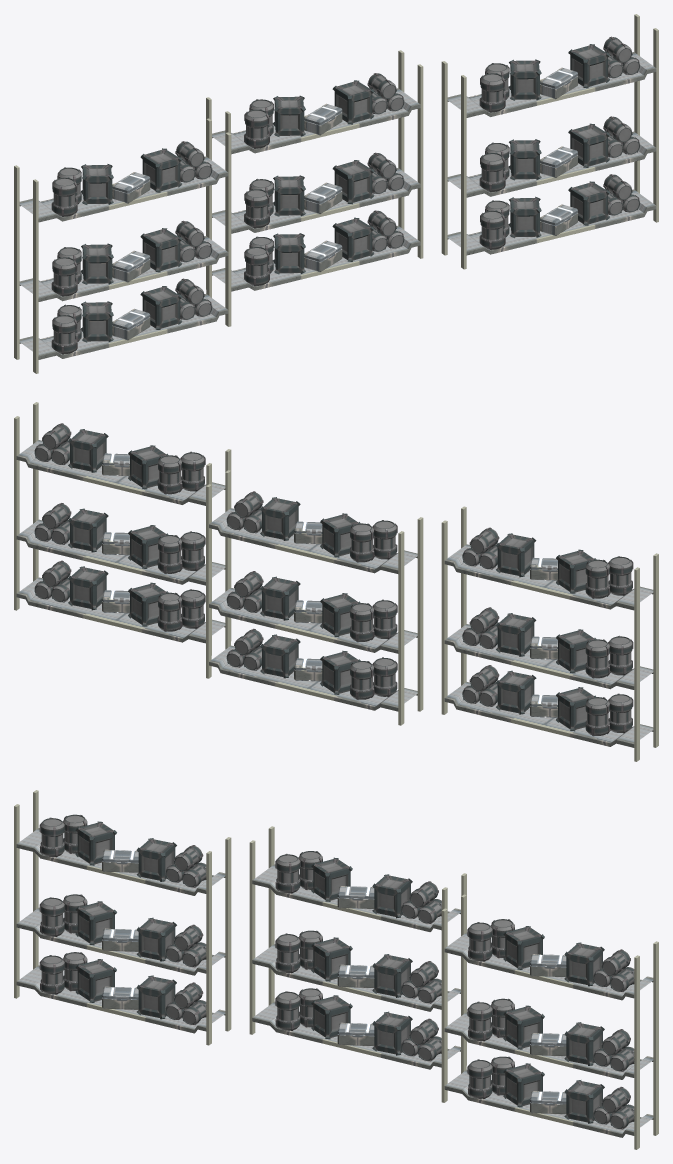
Rendered from Warehouse Shelves.fbx.
3 views of the same model, one above another, from view 1: azimuth 30°, elevation 25°; view 2: azimuth 150°, elevation 25°; view 3: azimuth 330°, elevation 25° (orthographic).
Visible parts, largest first — view 1: Shelves.002, Shelves.003, Shelves.001, Crate.018, Crate.012, Crate.014, Crate.016, Crate.010, Crate.008, Crate.020, Crate.024, Crate.022 (+27 smaller); view 2: Shelves.001, Shelves.003, Shelves.002, Crate.012, Crate.010, Crate.008, Crate.016, Crate.018, Crate.024, Crate.014, Crate.020, Crate.022 (+37 smaller); view 3: Shelves.002, Shelves.003, Shelves.001, Crate.012, Crate.010, Crate.008, Crate.016, Crate.020, Crate.022, Crate.018, Crate.014, Crate.024 (+37 smaller).
Part boxes in pixels (bbox=[...]): Shelves.002: bbox=[441, 14, 658, 269]; Shelves.003: bbox=[14, 118, 231, 373]; Shelves.001: bbox=[206, 50, 423, 291]; Crate.018: bbox=[332, 80, 374, 124]; Crate.012: bbox=[140, 148, 182, 192]; Crate.014: bbox=[332, 217, 374, 261]; Crate.016: bbox=[332, 160, 374, 204]; Crate.010: bbox=[140, 228, 182, 272]; Crate.008: bbox=[140, 286, 182, 329]; Crate.020: bbox=[568, 181, 609, 225]; Crate.024: bbox=[568, 44, 609, 88]; Crate.022: bbox=[568, 123, 609, 167]; Shelves.001: bbox=[206, 470, 423, 725]; Shelves.003: bbox=[441, 506, 658, 761]; Shelves.002: bbox=[14, 402, 231, 655]; Crate.012: bbox=[496, 533, 536, 577]; Crate.010: bbox=[496, 613, 536, 656]; Crate.008: bbox=[496, 670, 536, 714]; Crate.016: bbox=[260, 576, 300, 620]; Crate.018: bbox=[260, 497, 300, 540]; Crate.024: bbox=[68, 429, 108, 472]; Crate.014: bbox=[260, 634, 300, 678]; Crate.020: bbox=[68, 566, 108, 610]; Crate.022: bbox=[68, 508, 108, 552]; Shelves.002: bbox=[441, 894, 658, 1149]; Shelves.003: bbox=[14, 790, 231, 1045]; Shelves.001: bbox=[249, 826, 466, 1069]; Crate.012: bbox=[136, 838, 176, 881]; Crate.010: bbox=[136, 917, 176, 961]; Crate.008: bbox=[136, 975, 176, 1019]; Crate.016: bbox=[372, 954, 412, 997]; Crate.020: bbox=[564, 1080, 604, 1123]; Crate.022: bbox=[564, 1022, 604, 1065]; Crate.018: bbox=[372, 874, 412, 918]; Crate.014: bbox=[372, 1011, 412, 1055]; Crate.024: bbox=[564, 942, 604, 986].
Size of the model in its own units: 2475 by 729 by 316.
